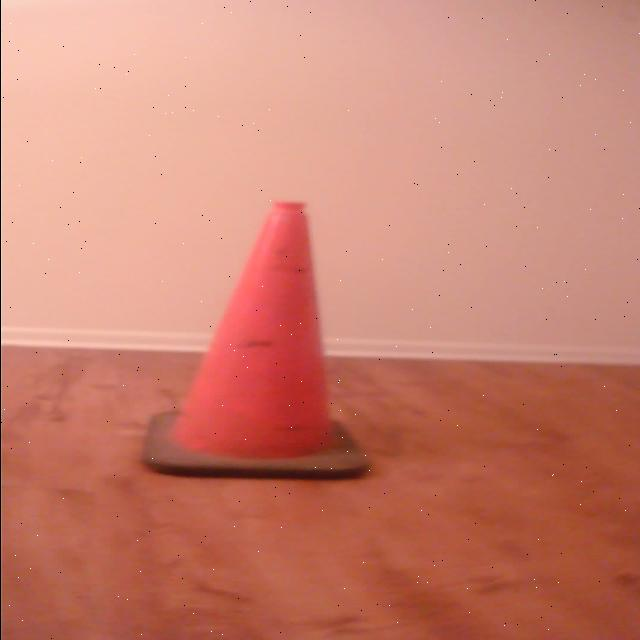traffic cone: (120, 193, 382, 501)
